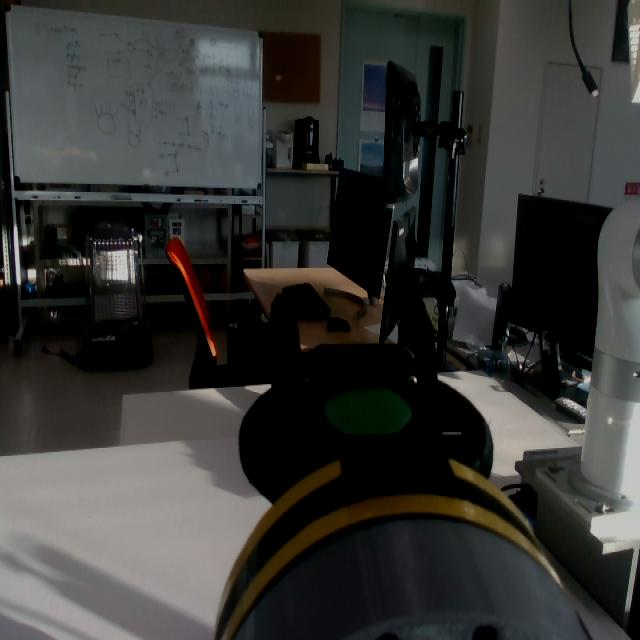body_connector: (234, 516, 592, 640)
connection: (218, 455, 586, 640)
leg: (213, 297, 550, 640)
leg_connector: (210, 447, 553, 637)
marker: (322, 385, 409, 433)
